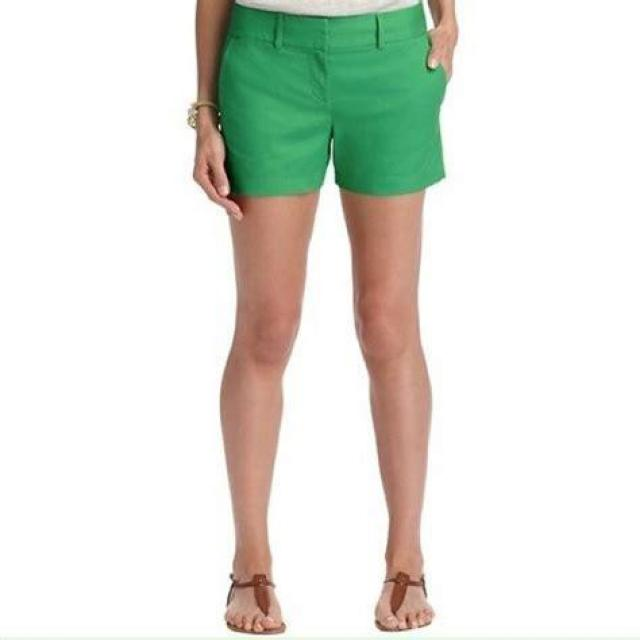short: (215, 0, 447, 197)
